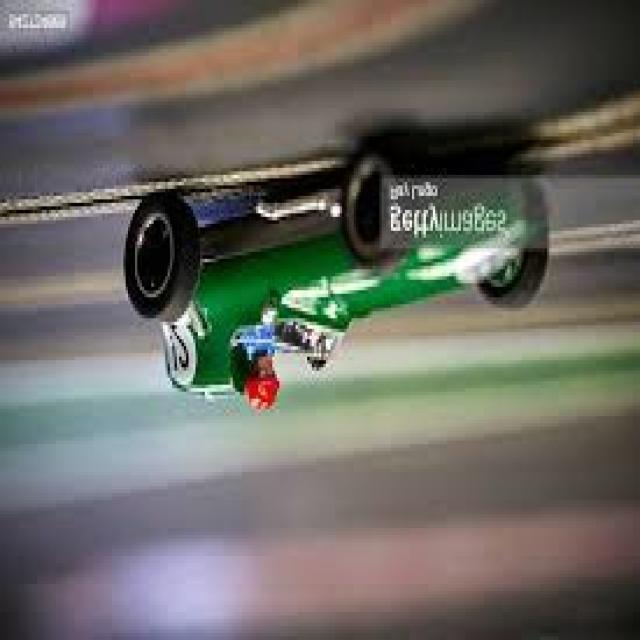Car: (121, 143, 549, 413)
